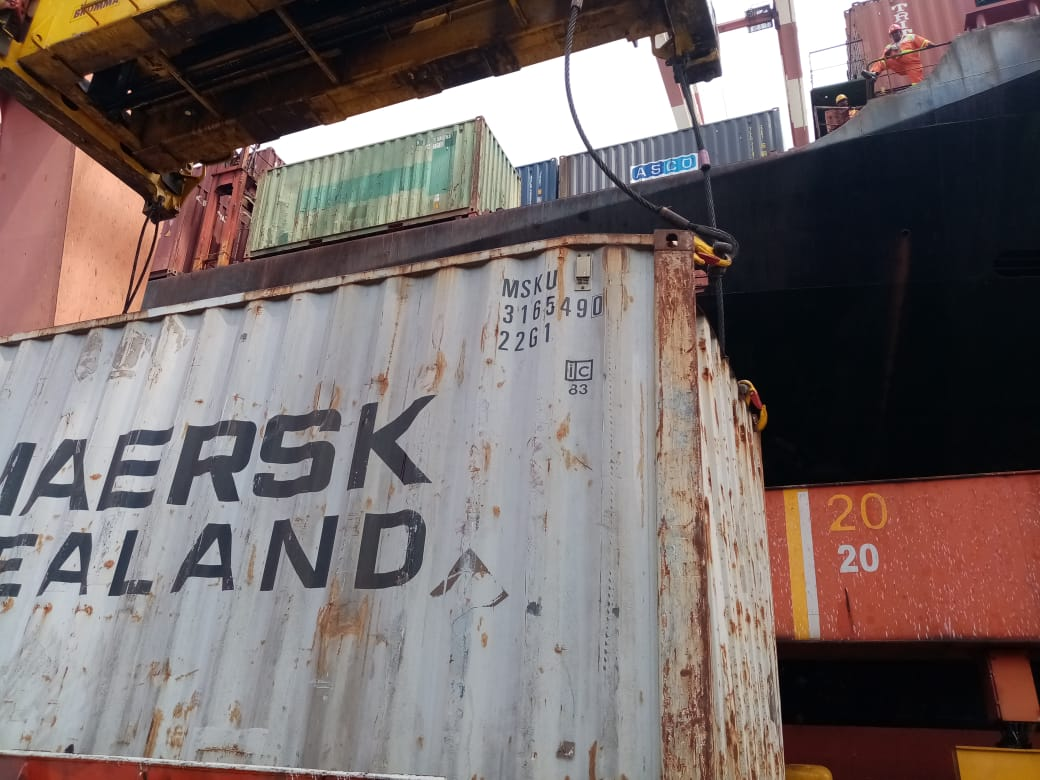rust: (336, 348, 468, 392), (124, 657, 190, 741), (306, 609, 404, 665)
